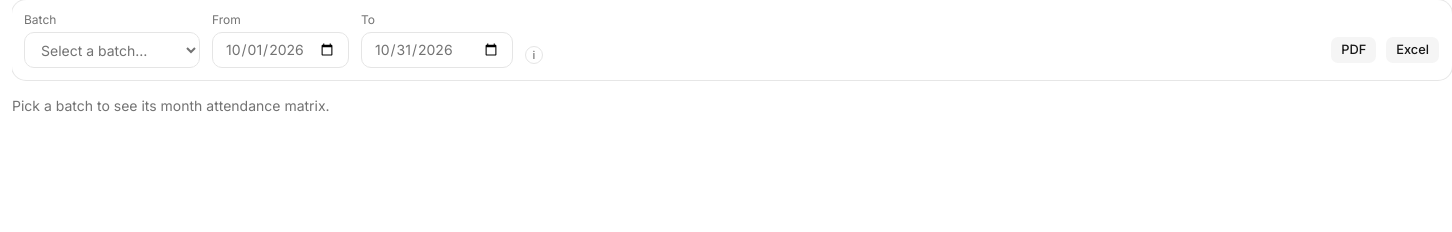
Test: BatchMatrix › renders the students × days grid with per-student % and day totals
# Select a batch so the grid renders.
Select "JEE-12-A" in the dropdown named "Select batch" at (112, 50), box [24,32,200,68]
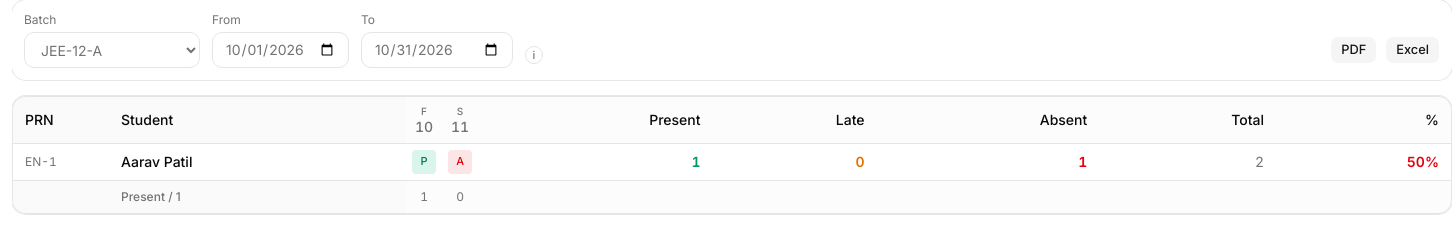
Expected: the text "Aarav Patil" is shown, [121,153,192,170]
Expected: the text "P" is shown, [412,150,436,174]
Expected: the text "A" is shown, [448,150,472,174]
